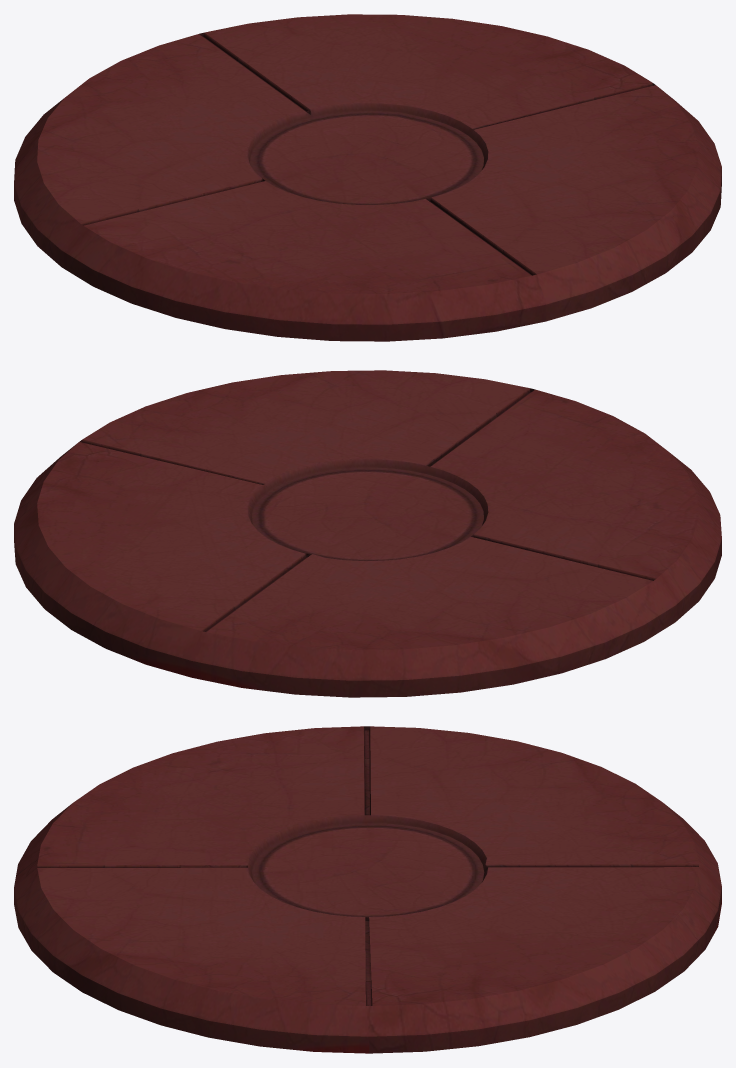
The model's file is portal_button_switch.obj.
3 renders of one model, top to bottom at view 1: azimuth 30°, elevation 25°; view 2: azimuth 150°, elevation 25°; view 3: azimuth 270°, elevation 25°, orthographic.
Parts seen in each view (by area): view 1: portal_button_switch; view 2: portal_button_switch; view 3: portal_button_switch.
Part boxes in pixels (left/top/right/bottom): portal_button_switch: left=14, top=14, right=721, bottom=341; portal_button_switch: left=14, top=370, right=721, bottom=697; portal_button_switch: left=14, top=726, right=721, bottom=1053.
Bounding box in the file's own units: 0.6361 × 0.0375 × 0.6359.
Materials: 1 (1 with a texture image).
